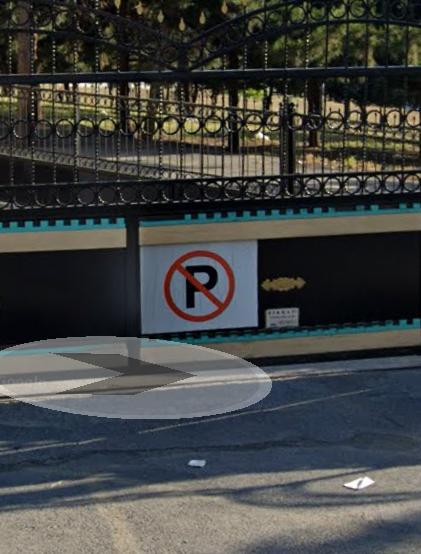nopark: (165, 257, 233, 319)
